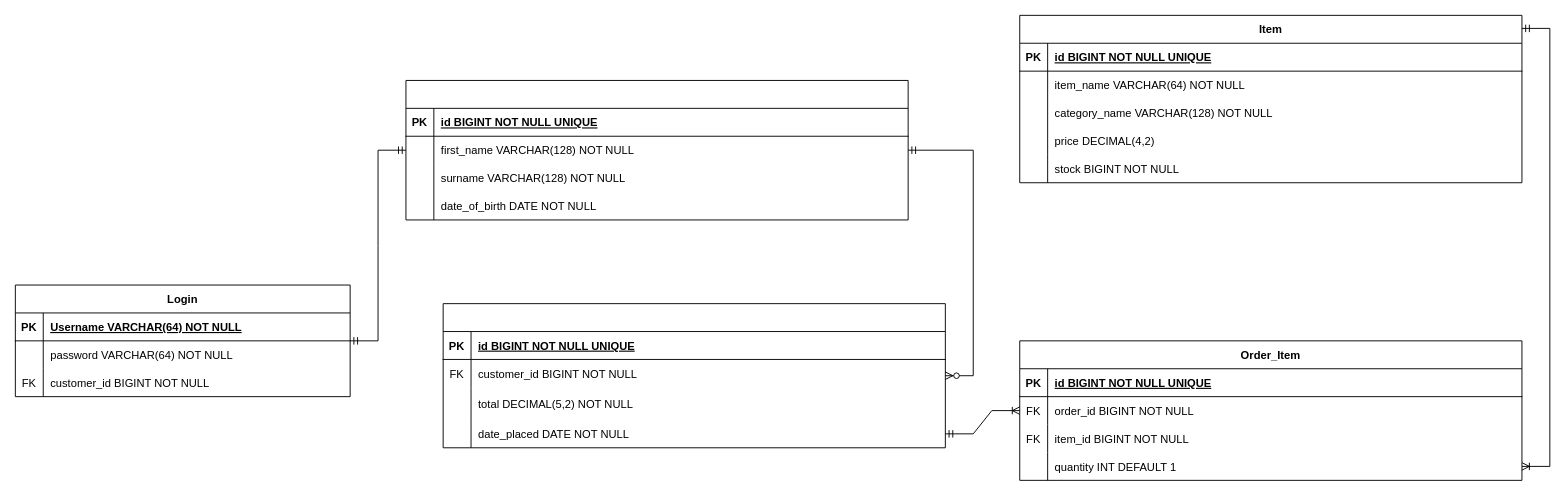
Image size: 1565x496. Some labels were removed from this diagram. The shapes that lost their labels are listed below. From the top down, each one's box as (x1, y1, x2, y2) in pixels, then its label:
(405, 80, 908, 220): Customer
(442, 303, 945, 448): Order
